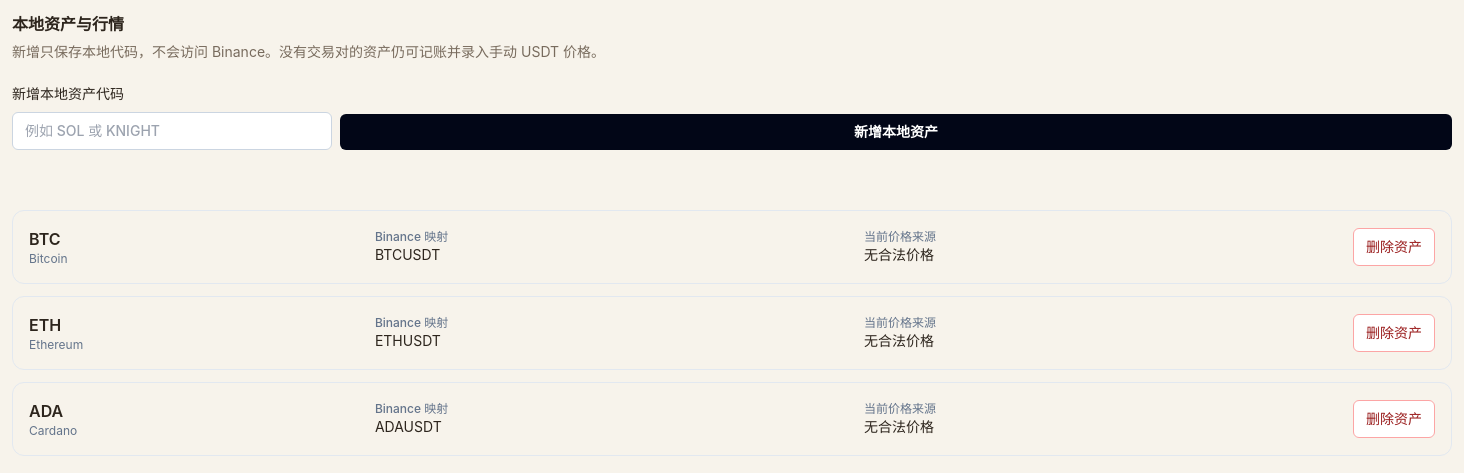
Test: LocalAssetManager › shows stable validation codes without mutating
Type "USDT" into the field labelled "新增本地资产代码" at [172, 131], box x1=12 y1=112 x2=332 y2=150
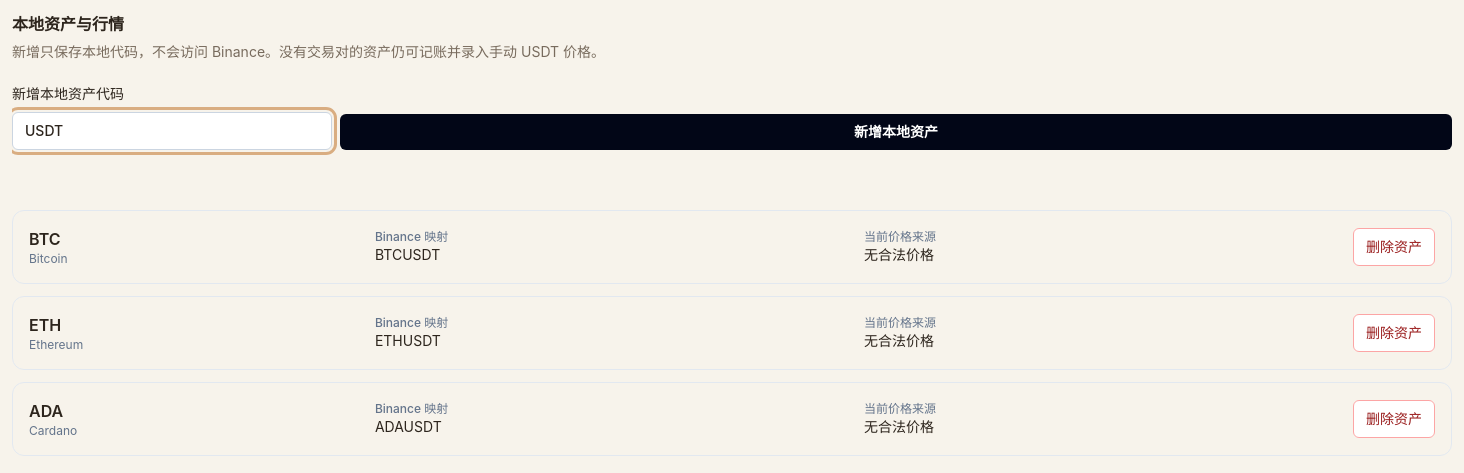
Click the button "新增本地资产" at [896, 132], box x1=340 y1=114 x2=1452 y2=150
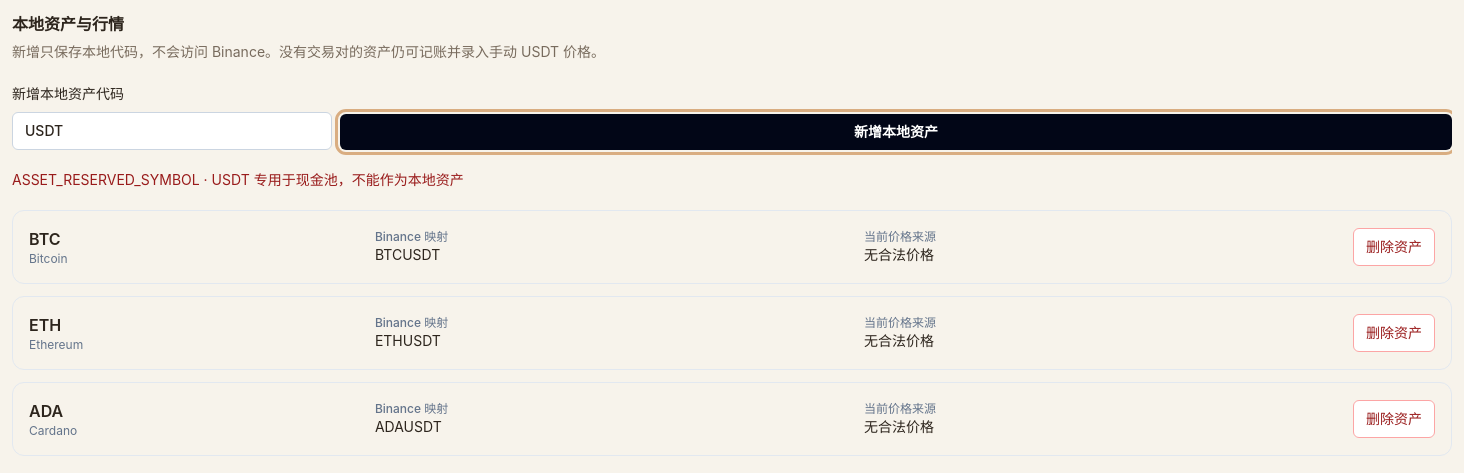
Expected: the text "ASSET_RESERVED_SYMBOL · USDT 专用于现金池，不能作为本地资产" is shown, x1=12 y1=171 x2=464 y2=188
